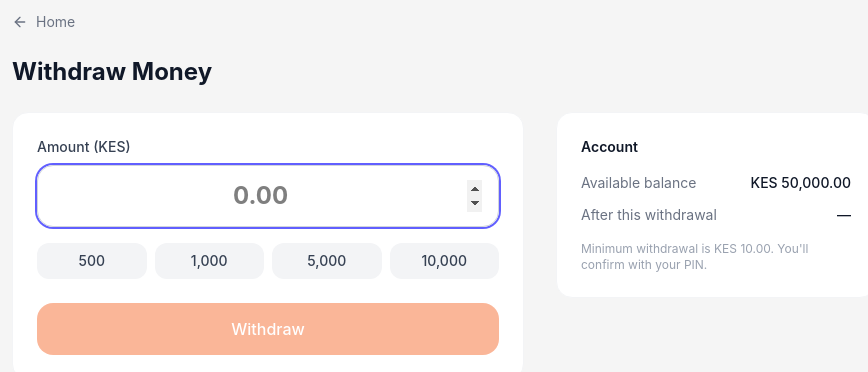
Test case: WithdrawPage › clicking a quick-amount chip fills the amount input
This screenshot has width=868, height=372.
Expected: the button "500" is shown, [37,243,146,279]
Expected: the button "1,000" is shown, [154,243,264,279]
Click the button "5,000" at (327, 261), box [272,243,382,279]
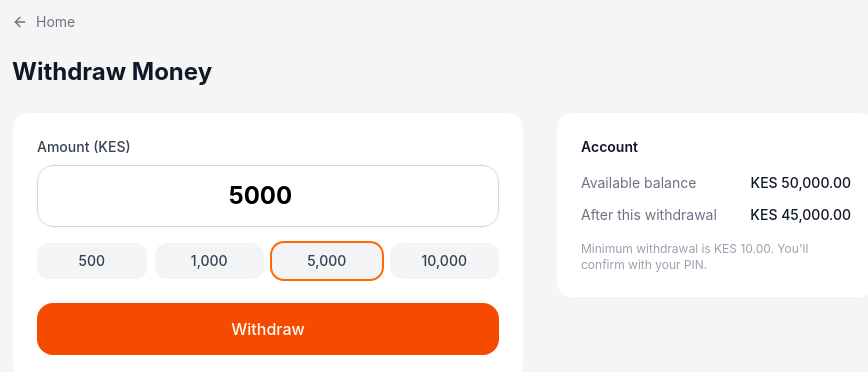
Expected: the number field with placeholder "0.00" holds "5000", [37,165,499,227]
Expected: the button "Withdraw" is enabled, [37,303,499,355]
